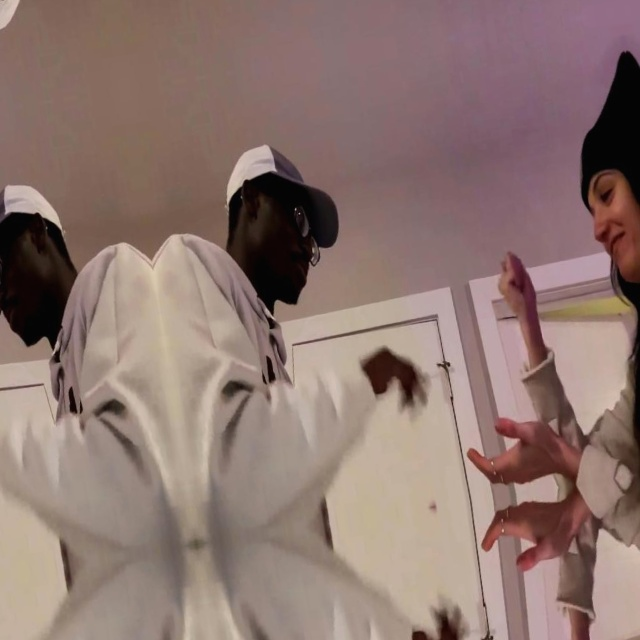Paper: (359, 338, 436, 425)
Rock: (492, 251, 542, 331)
